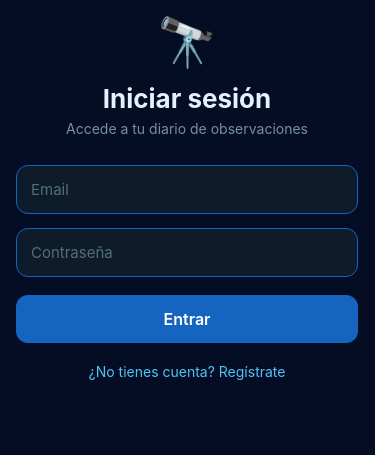
LoginScreen › sin sesión — formulario de login › muestra error de validación si el email es inválido
Type "no-es-un-email" into the field with test id "email-input".
click(187, 190); type("no-es-un-email")  # box [16,165,358,214]
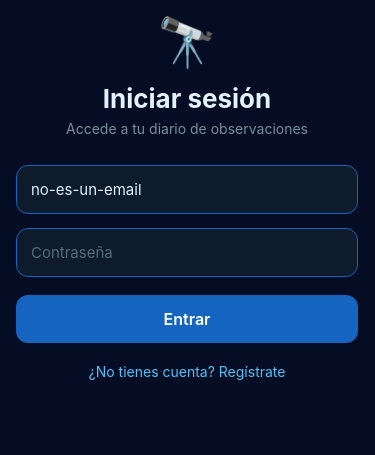
Type "123456" into the password field with test id "password-input".
click(187, 252); type("123456")  # box [16,228,358,277]
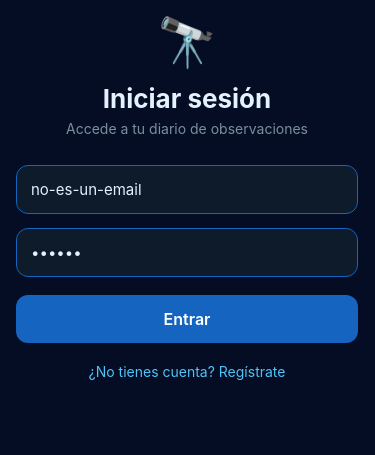
Click the element with test id "login-button".
click(187, 319)  # box [16,295,358,343]
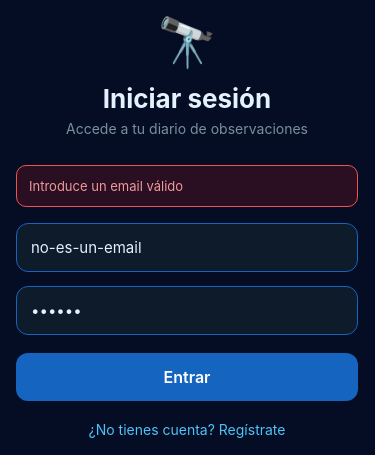
Now the element with test id "error-banner" is shown, box [16,165,358,207]
